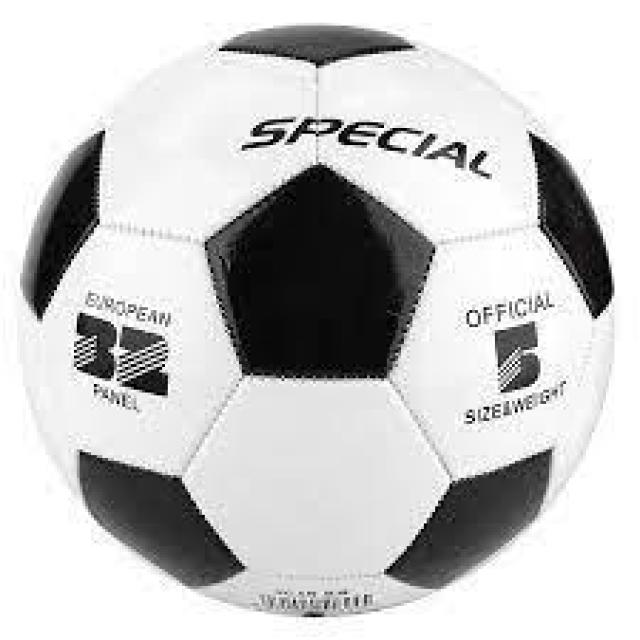Soccer Ball: (26, 26, 617, 628)
